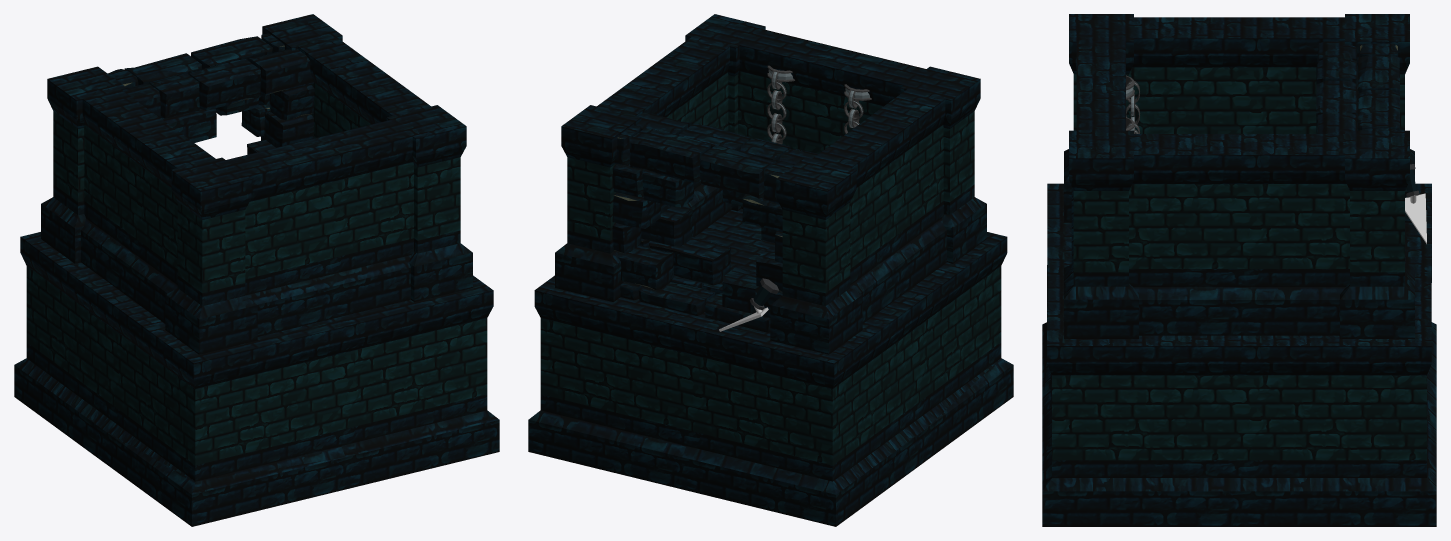
Rendered from tile-start.glb.
3 views of the same model, side by side, from view 1: azimuth 30°, elevation 25°; view 2: azimuth 150°, elevation 25°; view 3: azimuth 270°, elevation 25° (orthographic). The views are drawn at different scales.
Visible parts, largest first — view 1: mergedBlocks(Clone); view 2: mergedBlocks(Clone); view 3: mergedBlocks(Clone).
Part boxes in pixels (x1,y1,x2,y2): mergedBlocks(Clone): (14, 14, 499, 526); mergedBlocks(Clone): (528, 14, 1013, 526); mergedBlocks(Clone): (1042, 14, 1436, 526).
Size of the model in its own units: 2 by 2 by 2.
8 materials, 3 textured.
